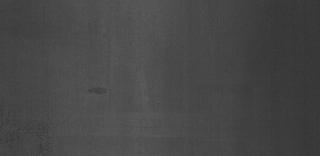oil spot: (88, 84, 112, 96)
